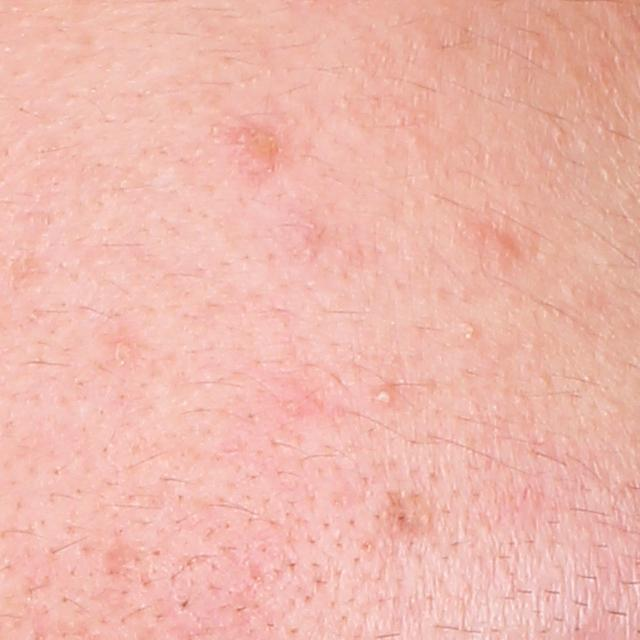comedo: (458, 317, 481, 342)
papule: (226, 116, 283, 188)
pustule: (371, 383, 402, 409)
